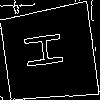H: (24, 28, 74, 71)
